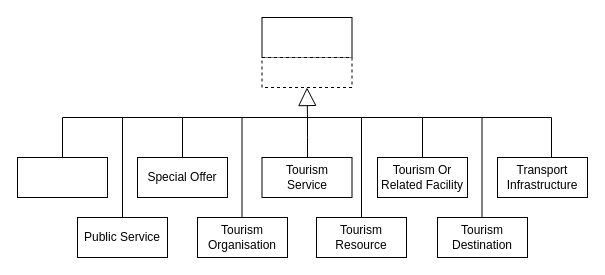
Some shapes in this 605 by 275 pixel diagram are drawn without their labels. The box of each missing label's shape, as (x1, y1, x2, y2) in pixels:
Event: (16, 156, 108, 198)
name: (261, 56, 352, 88)
TourismEntity: (261, 16, 352, 58)
